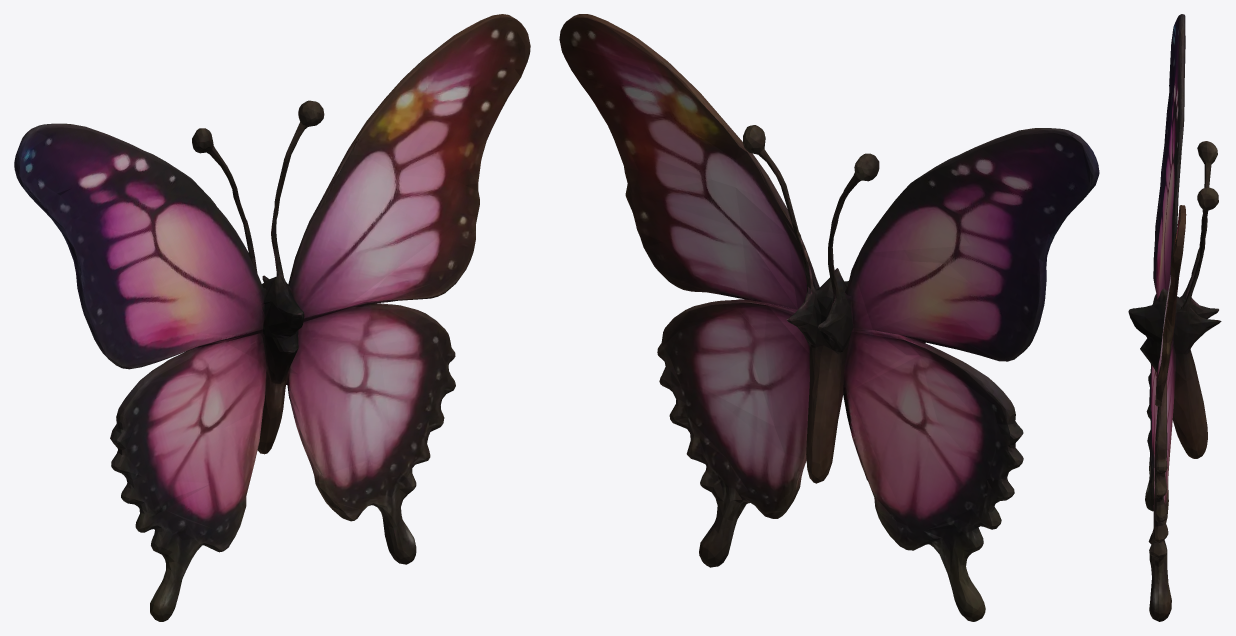
The picture shows the model from 3 angles, left to right: view 1: azimuth 30°, elevation 25°; view 2: azimuth 150°, elevation 25°; view 3: azimuth 270°, elevation 25°; orthographic projection. The views are drawn at different scales.
Parts seen in each view (by area): view 1: world; view 2: world; view 3: world.
Boxes of the visible parts, bbox=[...] form: world: bbox=[14, 14, 530, 621]; world: bbox=[559, 14, 1099, 621]; world: bbox=[1128, 14, 1221, 621].
Size of the model in its own units: 0.9982 by 0.9571 by 0.178.
Materials: 1 (1 with a texture image).
